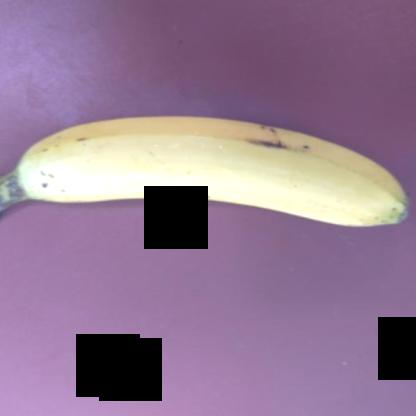freshripe: (1, 112, 414, 230)
